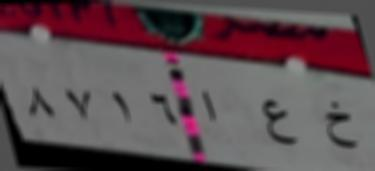1: (108, 87, 134, 129)
6: (146, 90, 177, 132)
7: (62, 82, 95, 126)
8: (22, 81, 58, 127)
ain: (256, 94, 300, 155)
alif: (199, 84, 223, 136)
khaa: (320, 92, 363, 158)
